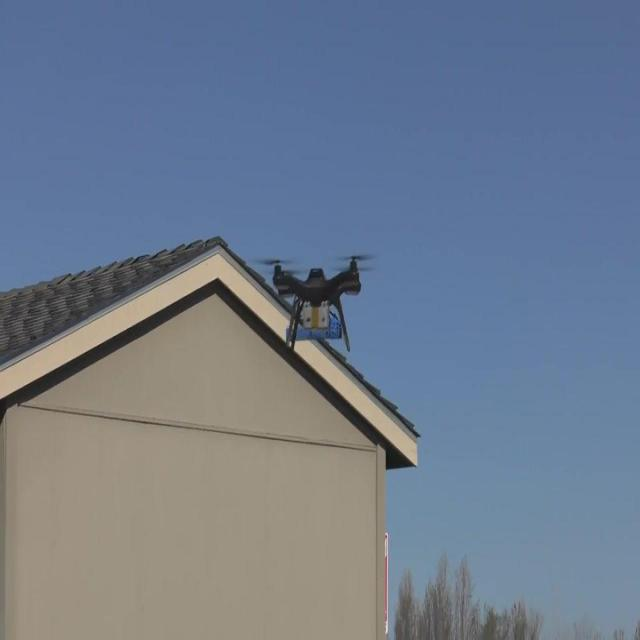UAV: (260, 256, 372, 351)
